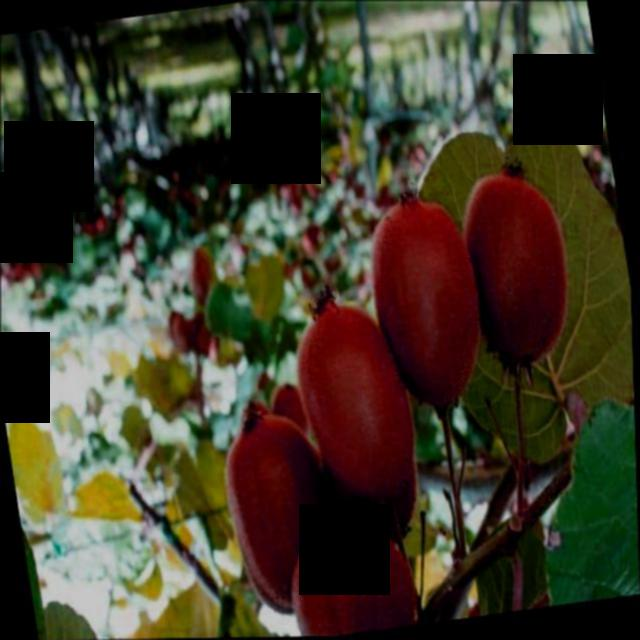kiwi: (359, 183, 498, 432), (287, 287, 427, 517), (453, 157, 585, 393), (217, 406, 347, 620), (279, 509, 421, 638)
